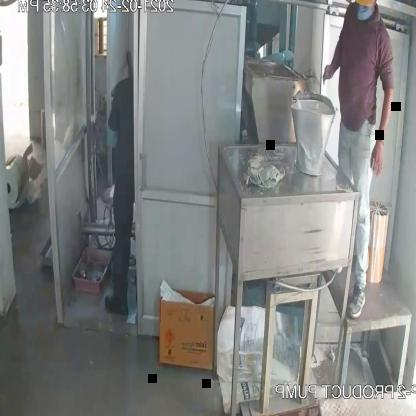helmet: (347, 0, 386, 18)
